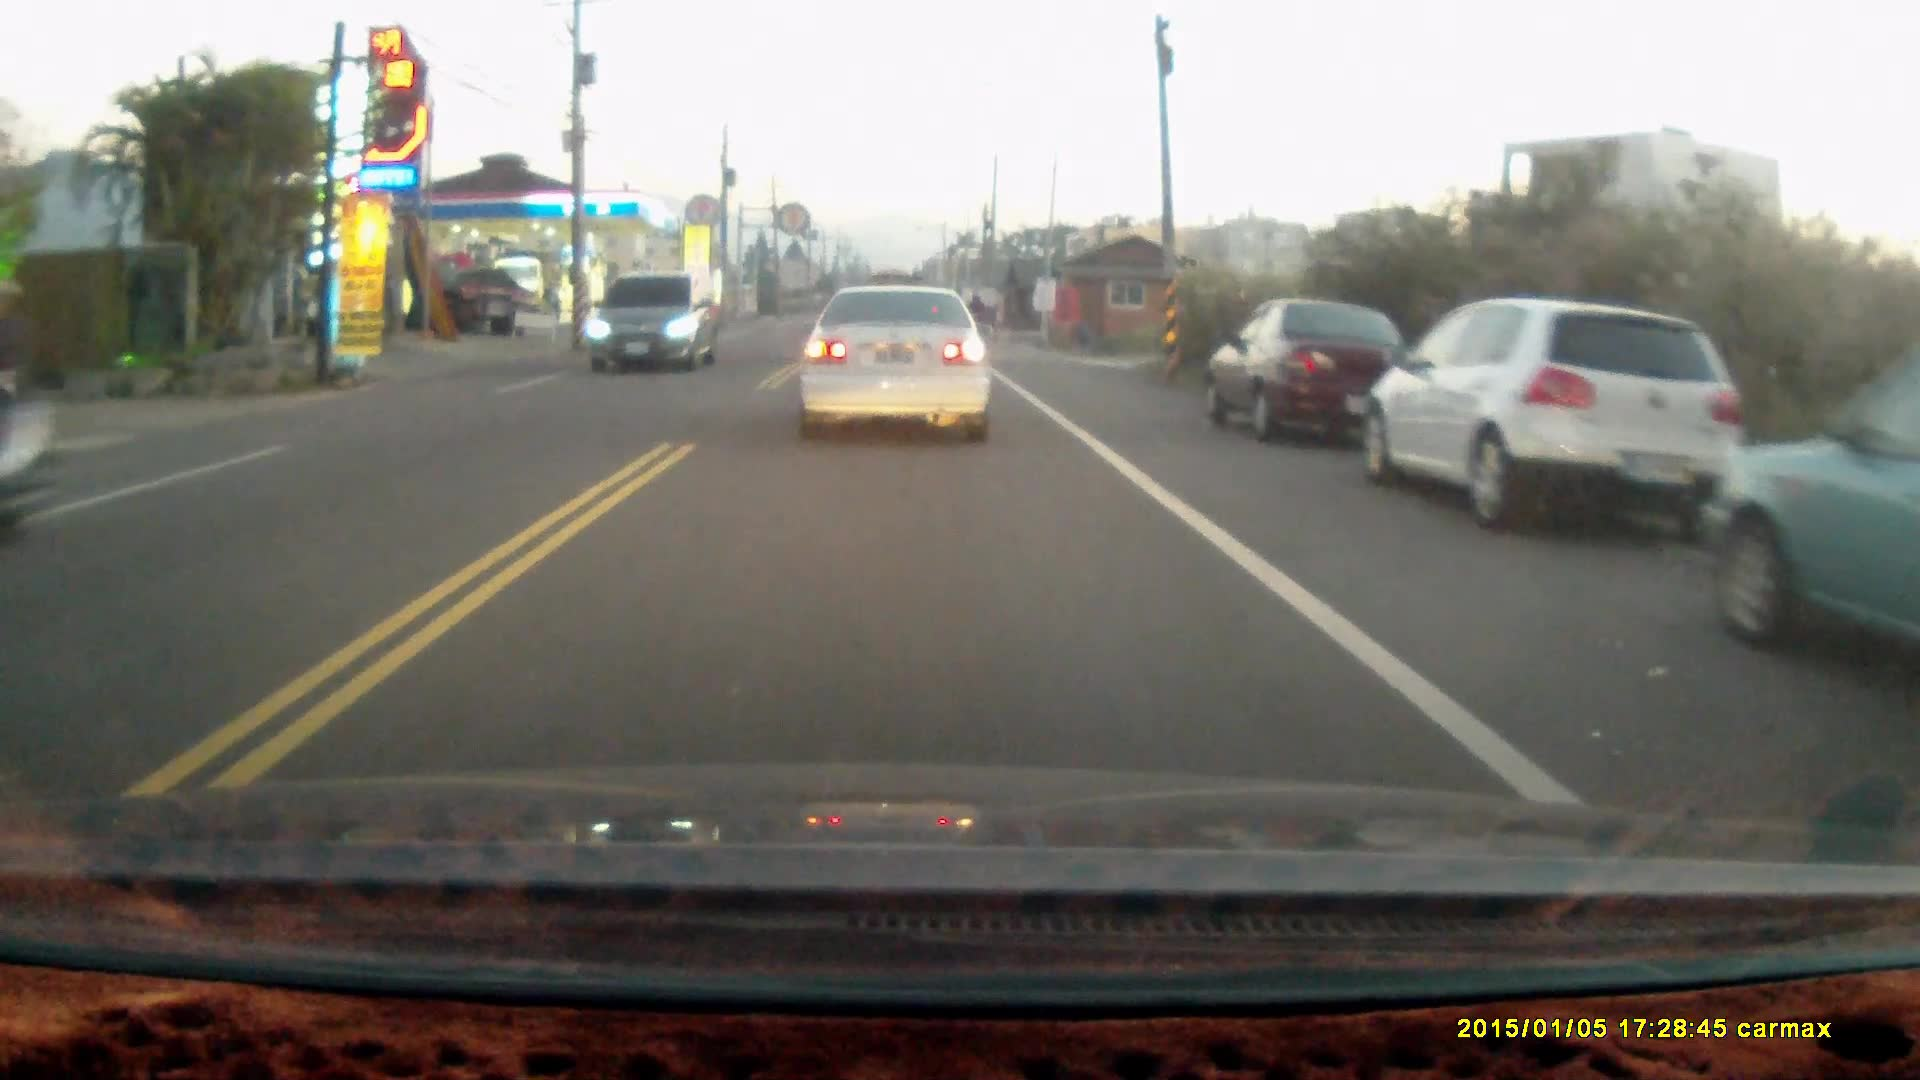rider: (0, 275, 61, 547)
vehicle: (1366, 296, 1755, 526), (1701, 356, 1920, 675), (797, 280, 995, 447), (1205, 297, 1426, 440), (586, 272, 722, 371)
